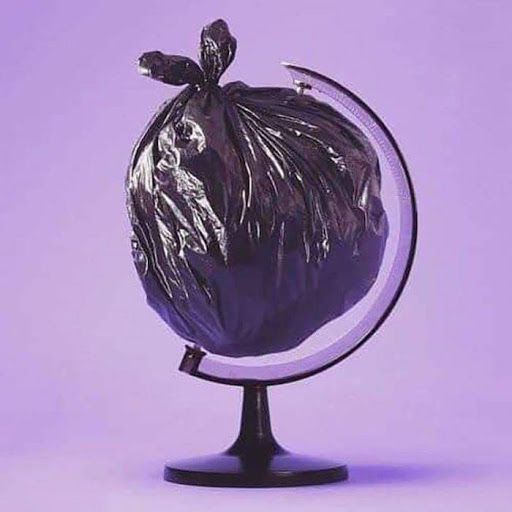papel: (111, 14, 393, 364)
